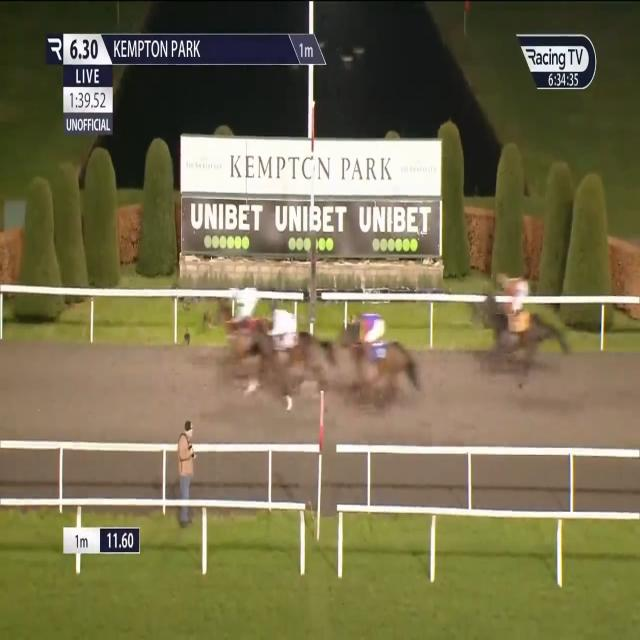horses-racing: (474, 273, 564, 382), (258, 302, 340, 404), (342, 309, 418, 414), (210, 282, 272, 384)
